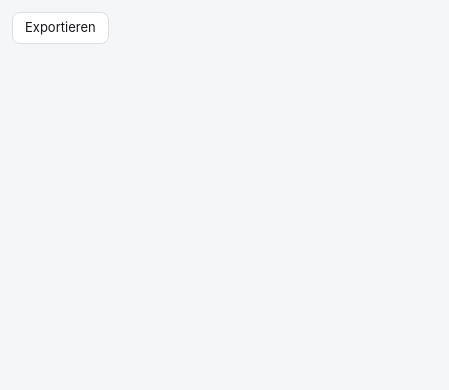
Test: ReportExportMenu › Fehlerfall: Meldung mit Grund als role="alert", kein Download
This screenshot has width=449, height=390.
Press ArrowDown in the button with test id "report-export-trigger", box [12,12,109,44]
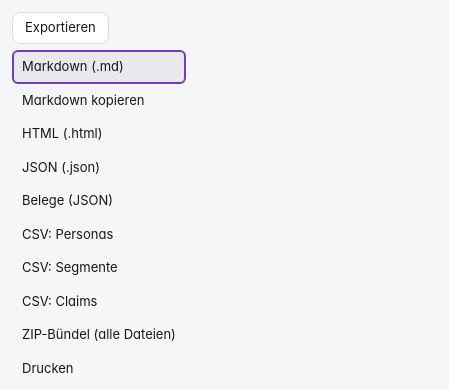
Click the menu item "ZIP-Bündel (alle Dateien)".
click(99, 334)  # box [22,326,176,342]
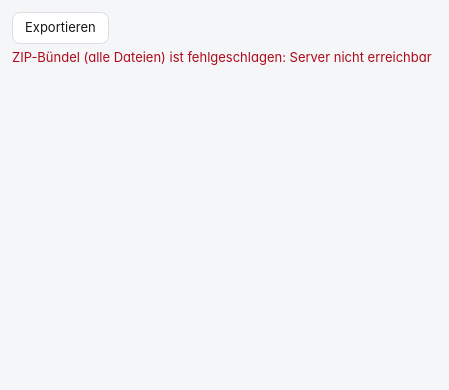
Expected: the message with test id "report-export-problem" shows "fehlgeschlagen", [12,49,432,65]
Expected: the message with test id "report-export-problem" shows "Server nicht erreichbar", [12,49,432,65]
